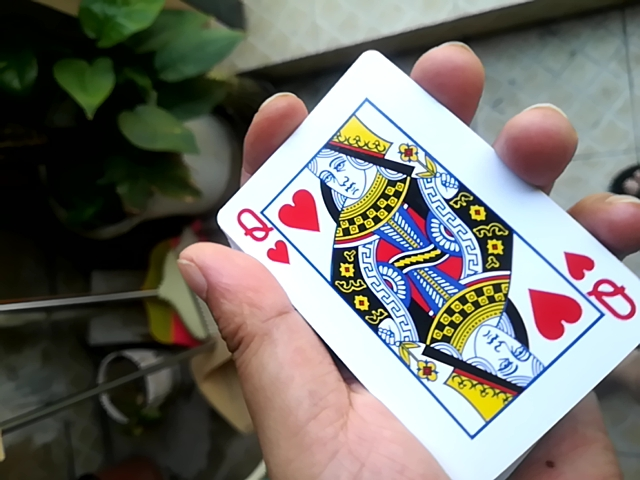hx q: (202, 53, 638, 479)
